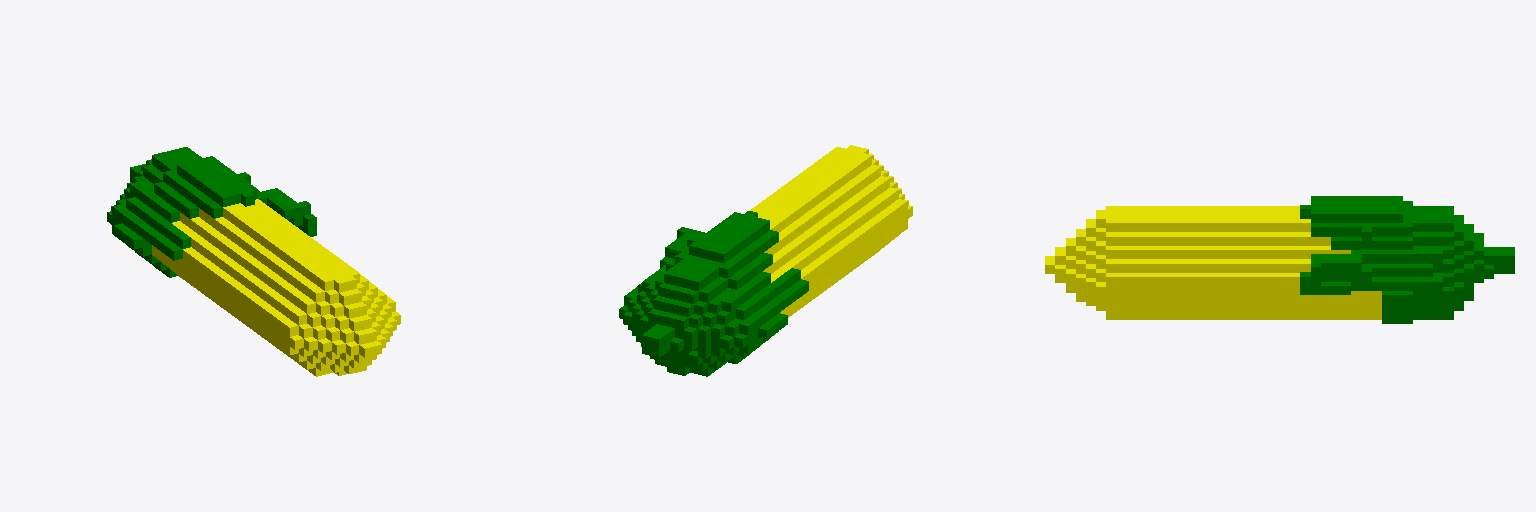
3 renders of one model, left to right at view 1: azimuth 30°, elevation 25°; view 2: azimuth 150°, elevation 25°; view 3: azimuth 270°, elevation 25°, orthographic.
Parts seen in each view (by area): view 1: object 1; view 2: object 1; view 3: object 1.
Part boxes in pixels (bbox=[...]): object 1: bbox=[107, 147, 400, 376]; object 1: bbox=[619, 145, 912, 376]; object 1: bbox=[1045, 196, 1514, 323].
Bounding box in the file's own units: 1.6 × 1.1 × 4.6.
1 materials, 1 textured.